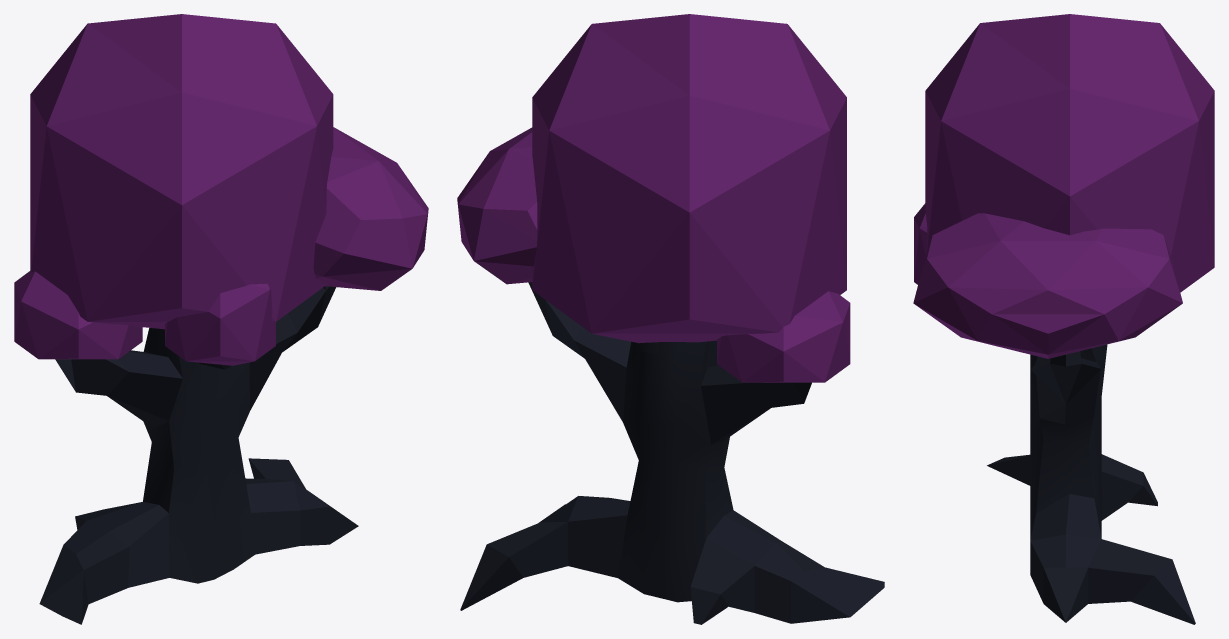
File: PurpleTree.FBX
3 views of the same model, side by side, from view 1: azimuth 30°, elevation 25°; view 2: azimuth 150°, elevation 25°; view 3: azimuth 270°, elevation 25° (orthographic). The views are drawn at different scales.
Visible parts, largest first — view 1: GeoSphere002, Box001; view 2: GeoSphere002, Box001; view 3: GeoSphere002, Box001.
Boxes of the visible parts, x1,y1,x2,y2 form: GeoSphere002: (14,14,428,365); Box001: (39,286,358,624); GeoSphere002: (457,14,850,382); Box001: (460,282,884,624); GeoSphere002: (913,14,1214,358); Box001: (987,344,1195,624).
Bounding box in the file's own units: 113 × 167 × 84.46.
